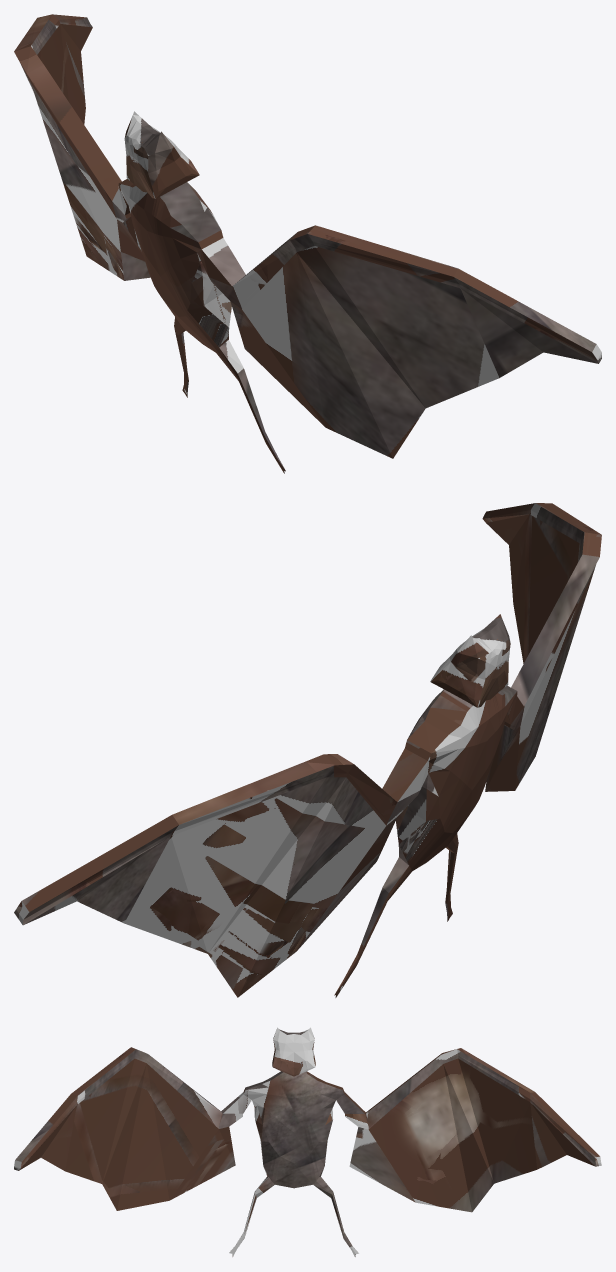
Rendered from Enemigo122.obj.
The picture shows the model from 3 angles, top to bottom: view 1: azimuth 30°, elevation 25°; view 2: azimuth 150°, elevation 25°; view 3: azimuth 270°, elevation 25°; orthographic projection. The views are drawn at different scales.
Parts seen in each view (by area): view 1: Plano; view 2: Plano; view 3: Plano.
Part boxes in pixels (box(x1,y1,x2,y2)): Plano: box(14, 14, 601, 473); Plano: box(14, 503, 601, 997); Plano: box(14, 1027, 601, 1256).
Size of the model in its own units: 0.5562 by 0.7356 by 1.92.
1 material, 1 textured.
